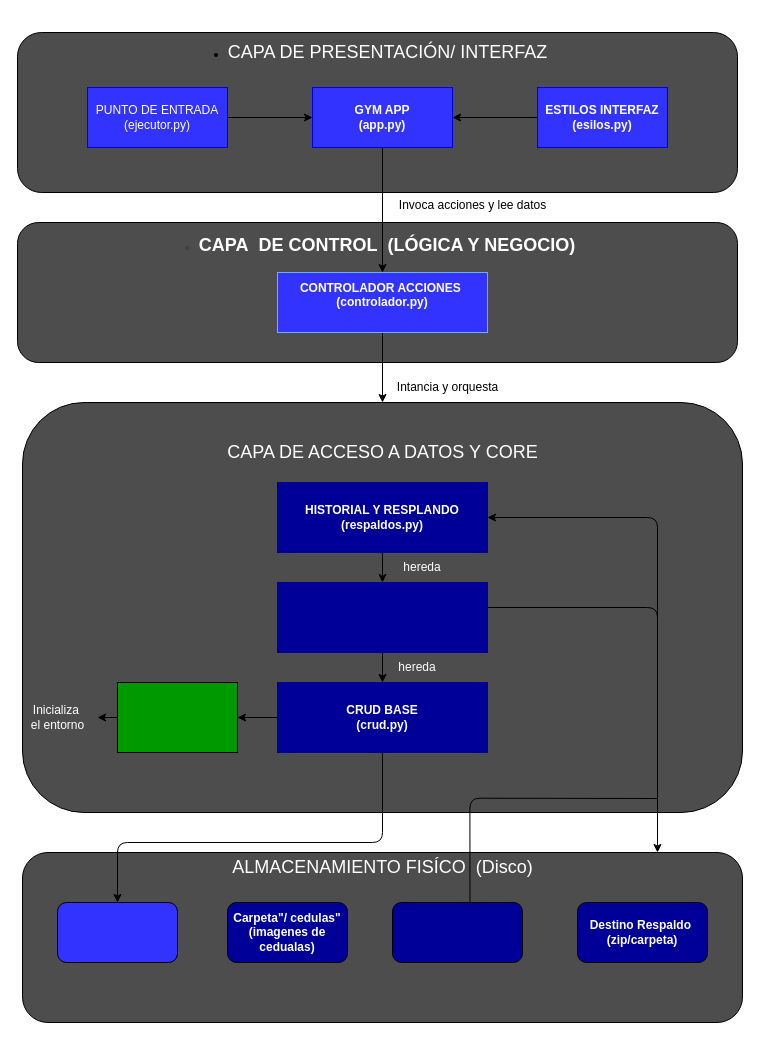
Some shapes in this 760 by 1040 pixel diagram are drawn without their labels. Each missing label, with the centre of its shape:
BÚSQUEDA Y MEDIDA (busqueda.py): (382,617)
Carpeta "/ historiales" (progreso atletas): (457,932)
cliente_gym.json (base de datos): (117,932)
CONFIGURACIÓN (configuración.py): (177,717)
